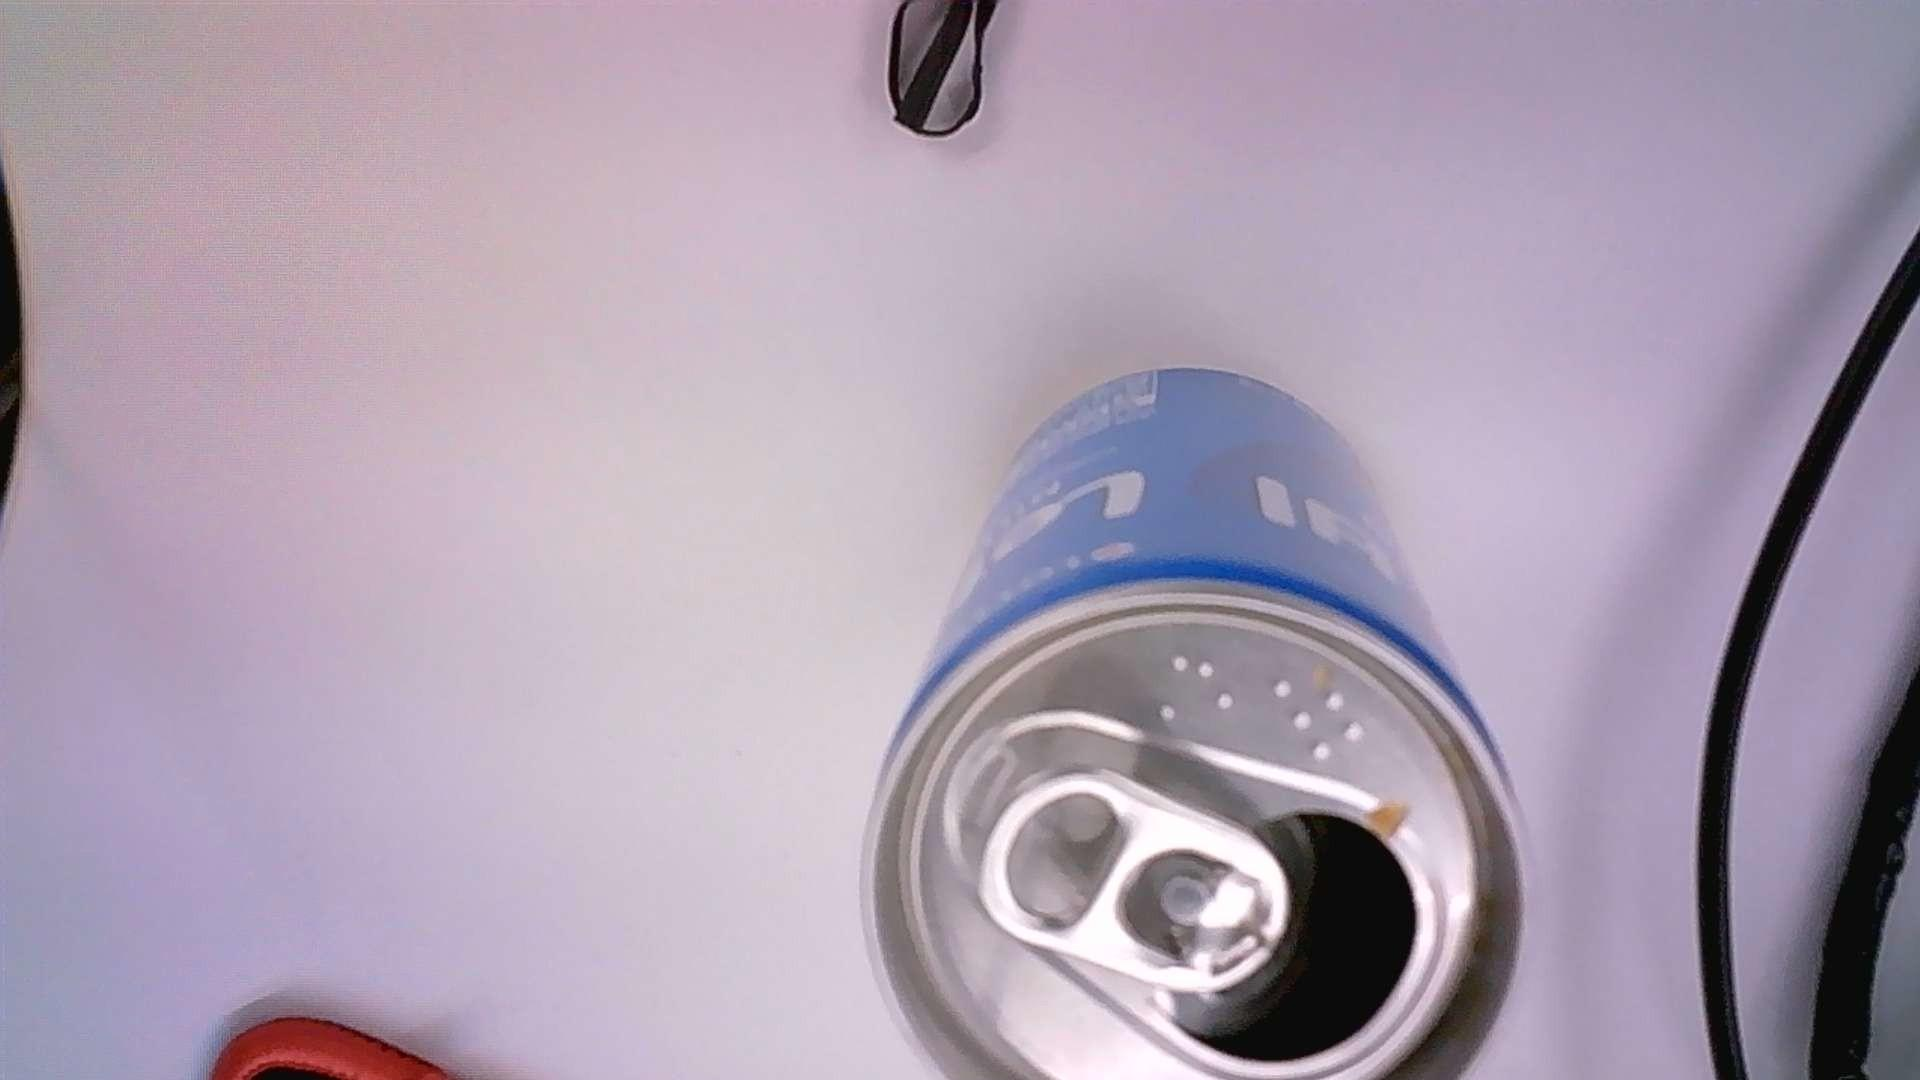letsbe: (857, 367, 1530, 1080)
